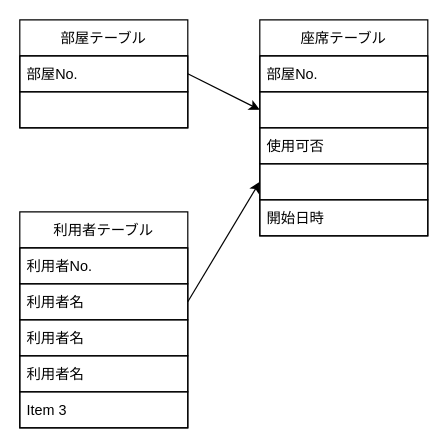
Image size: 448x448. Some labels were removed from this diagram. The centre of each missing label's shape, as x and y in pixels:
使用者: point 343,181
座席No.: point 343,109
部屋名称: point 103,109
